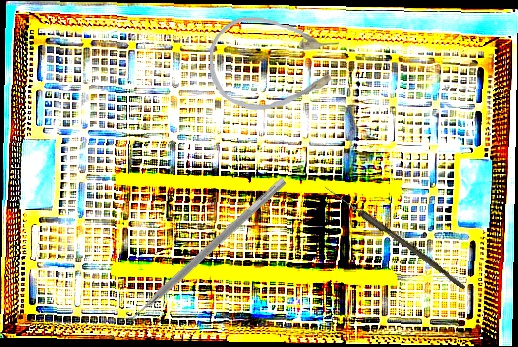Cannula: (209, 15, 340, 112)
Spatula Surgical: (118, 170, 288, 330)
Surgical Spoon: (322, 184, 468, 290)
